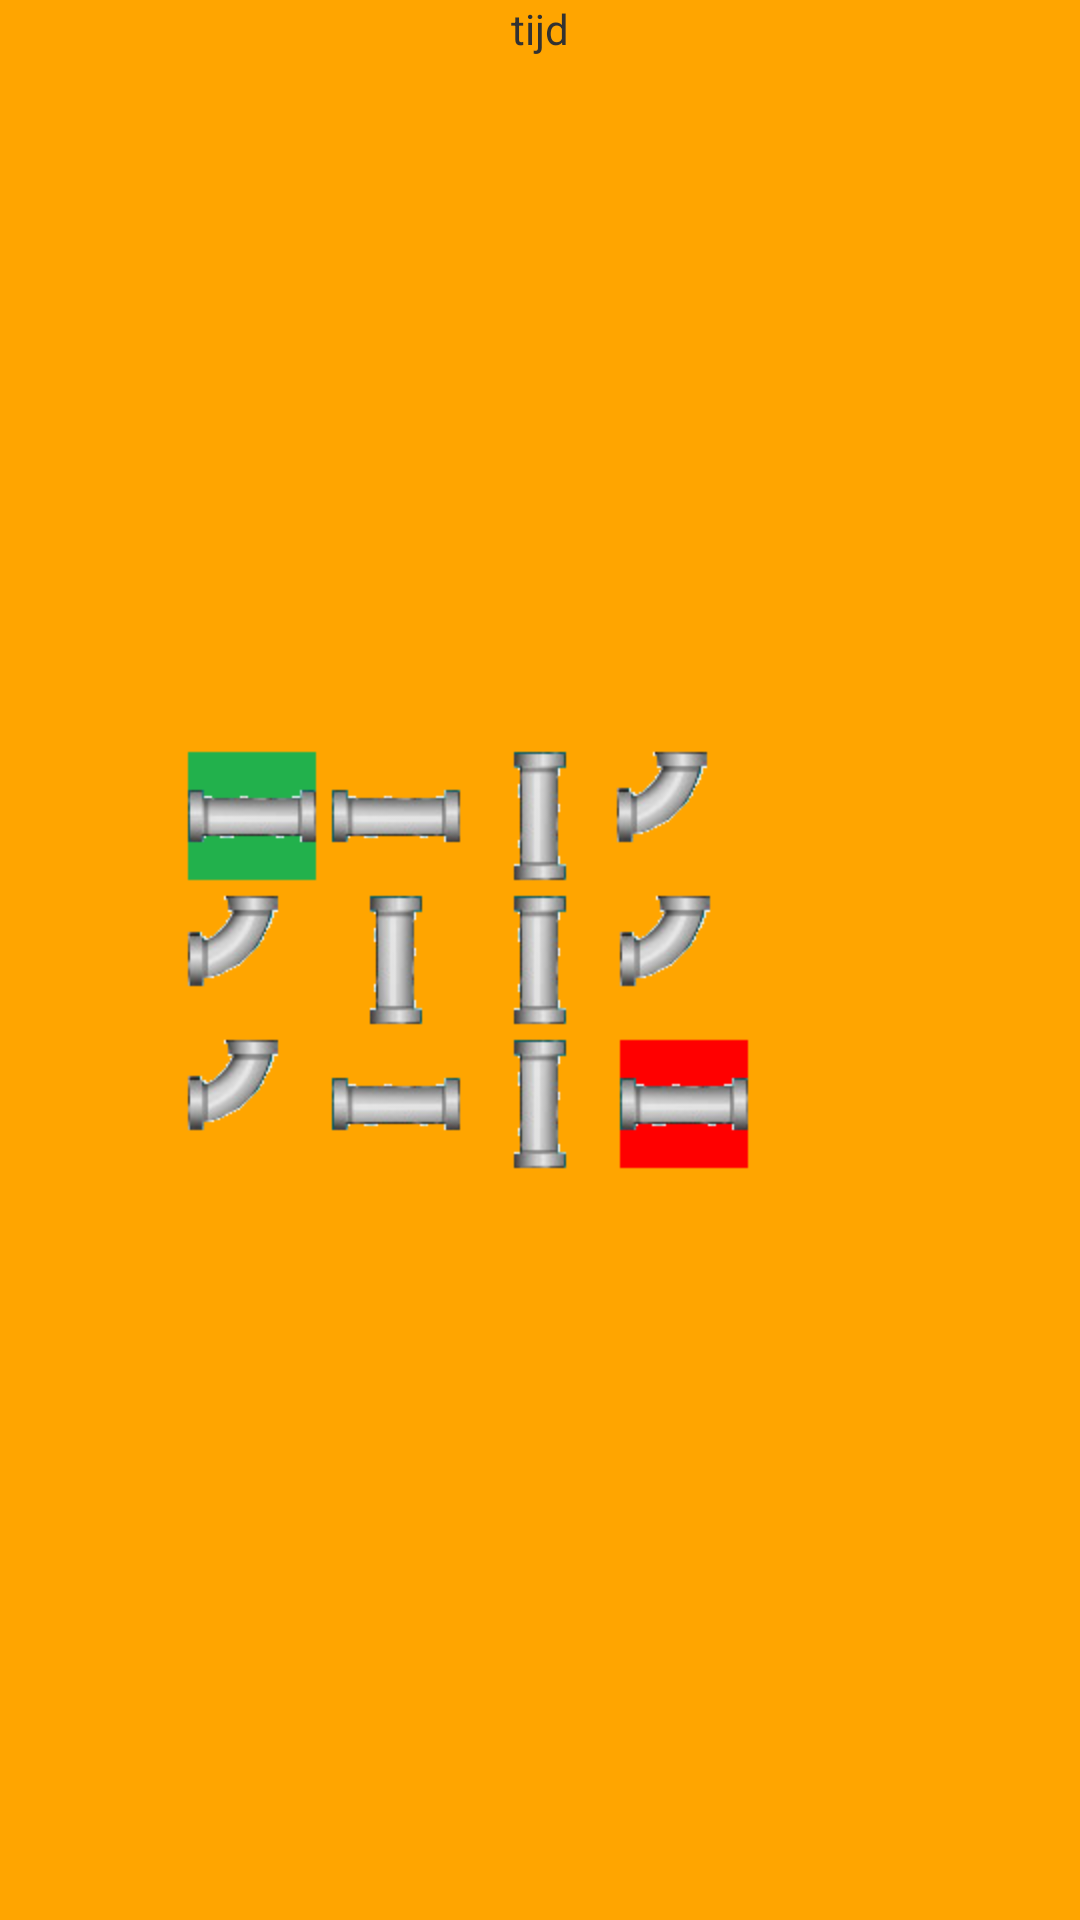

Named icons in this screenshot (1080*1920) and their bounding boxes, (left=x1, top=y1, right=x2, bottom=y2):
waterpipebegin: (left=187, top=751, right=317, bottom=881)
waterpipecurve: (left=616, top=751, right=708, bottom=843), (left=187, top=895, right=279, bottom=987), (left=619, top=895, right=711, bottom=987), (left=187, top=1039, right=279, bottom=1131)
waterpipeend: (left=619, top=1039, right=749, bottom=1169)
waterpipevertical: (left=513, top=751, right=567, bottom=881), (left=369, top=895, right=423, bottom=1025), (left=513, top=895, right=567, bottom=1025), (left=513, top=1039, right=567, bottom=1169)
